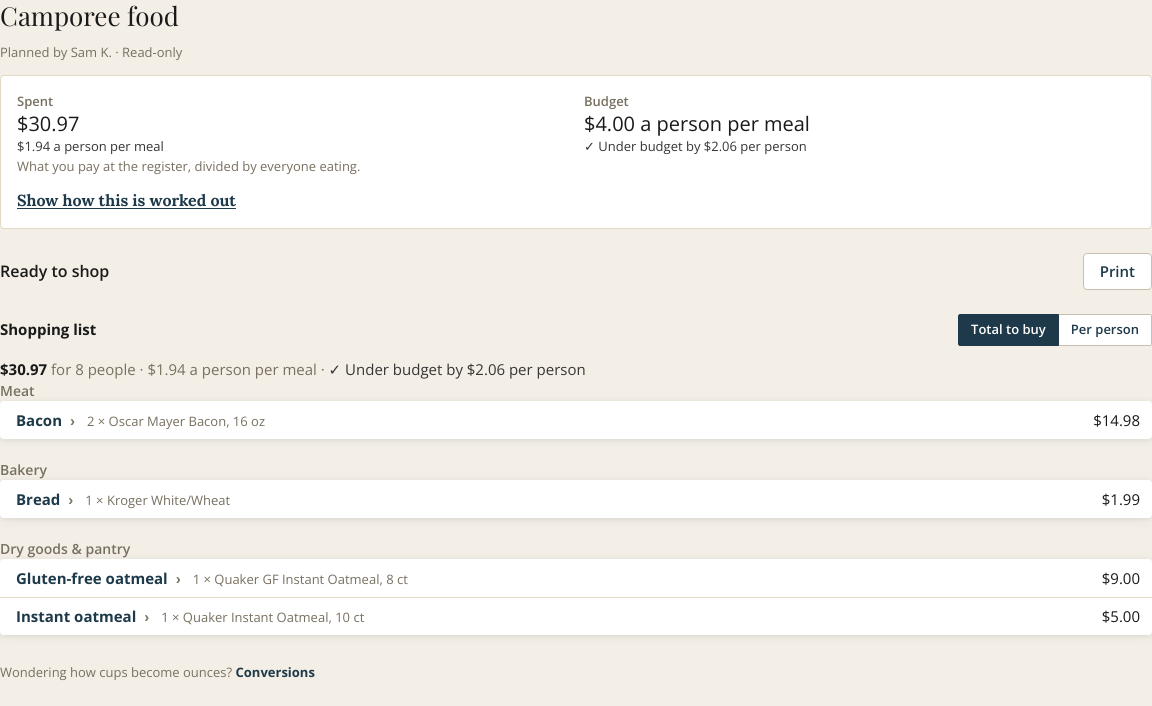
it: Shopping tab, read-only › Leader_OpensARowToSeeDetailsWithoutChoices_OnTheShoppingTab
# A row's name, not "the first collapsed button": the totals card now has a disclosure ahead of the list.
Click the button "Bacon ›" at (46,420), box left=16, top=409, right=75, bottom=431
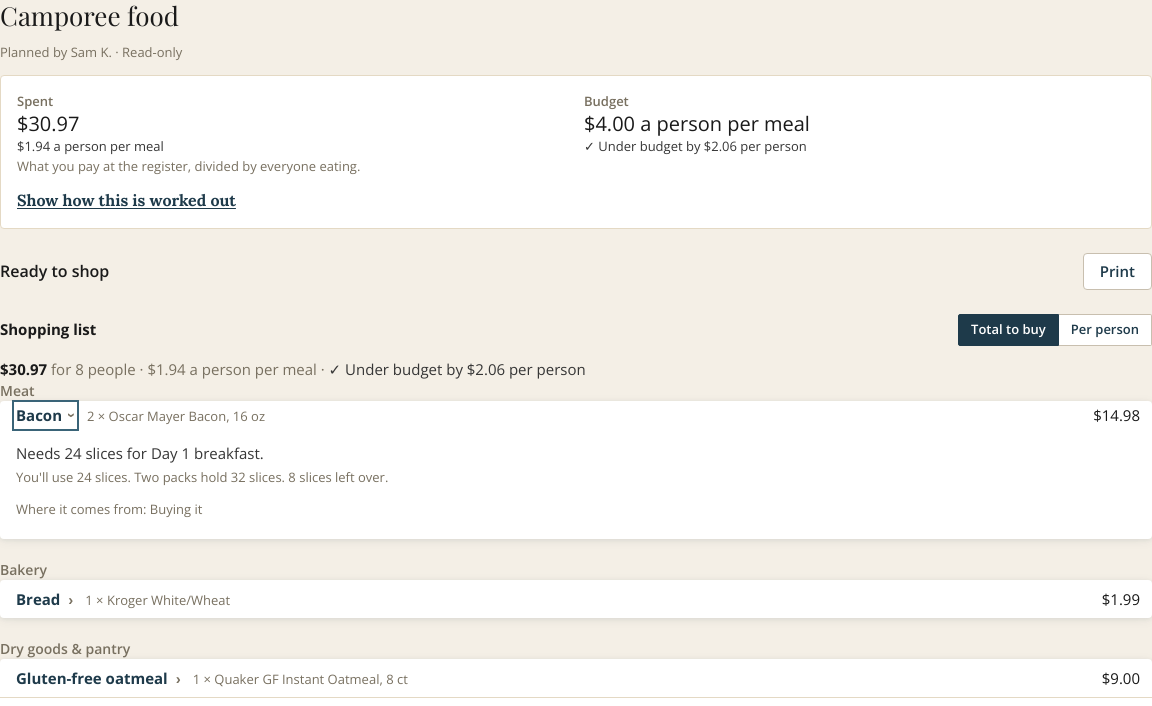
Expected: the text "Needs 24 slices for Day 1 breakfast." is shown, left=16, top=443, right=264, bottom=463
